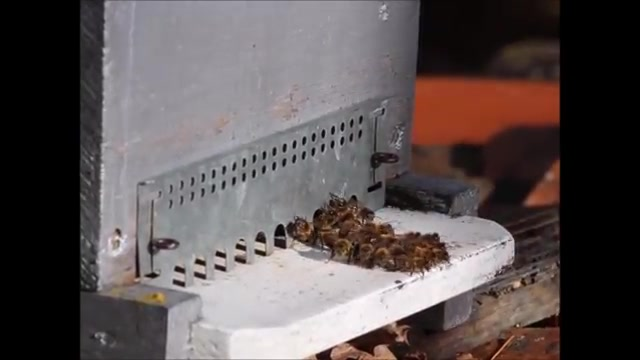bee: (318, 206, 351, 245), (354, 206, 384, 237), (373, 240, 401, 270), (398, 231, 445, 246), (404, 248, 434, 271), (293, 216, 314, 243), (332, 236, 352, 260), (354, 243, 377, 261)
